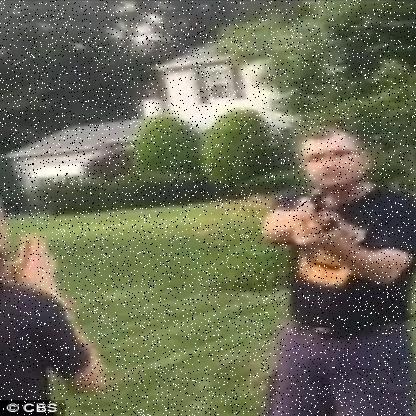pistol: (303, 188, 336, 226)
